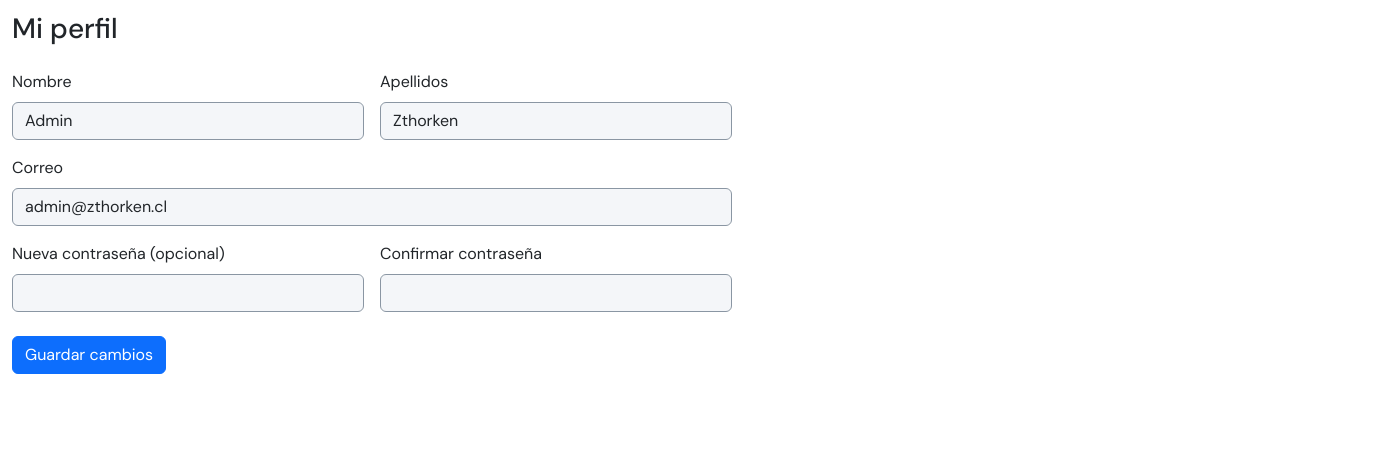
Perfil › guarda los cambios sin tocar la contraseña
The image size is (1378, 465).
Replace the text in the field labelled "Nombre" with "Administrador": (188, 121) [12,102,364,140]
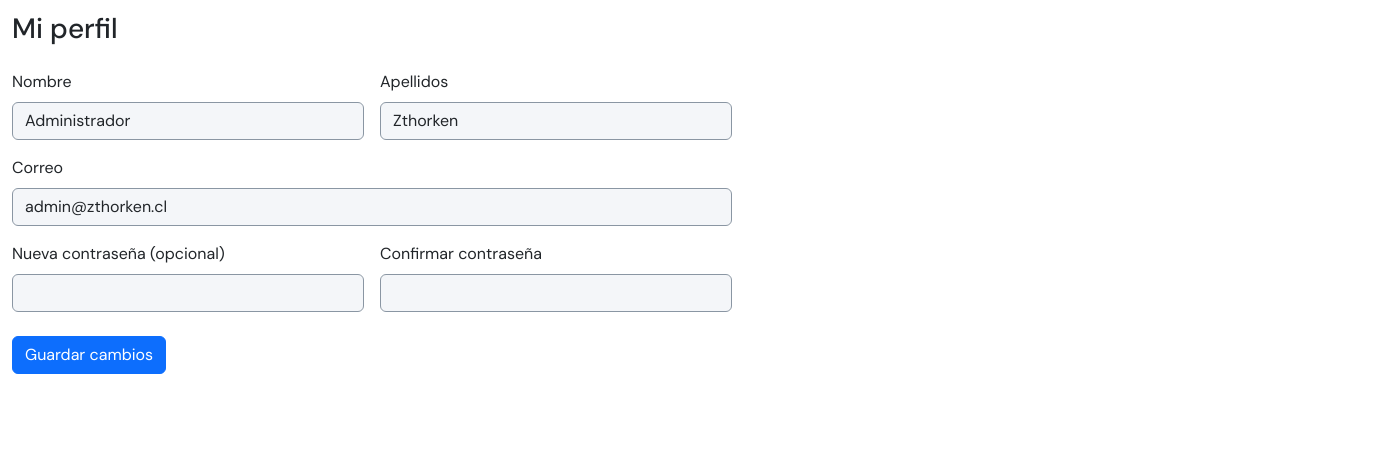
Click the button "Guardar cambios": click(89, 355) [12,336,166,374]
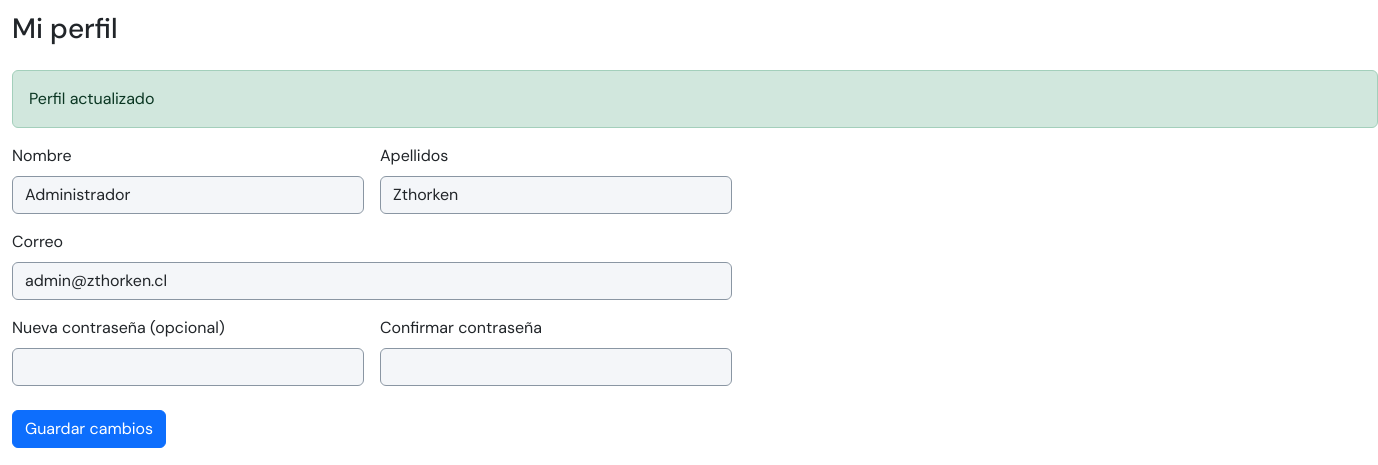
Now the message reads "Perfil actualizado", box [29,88,154,109]
